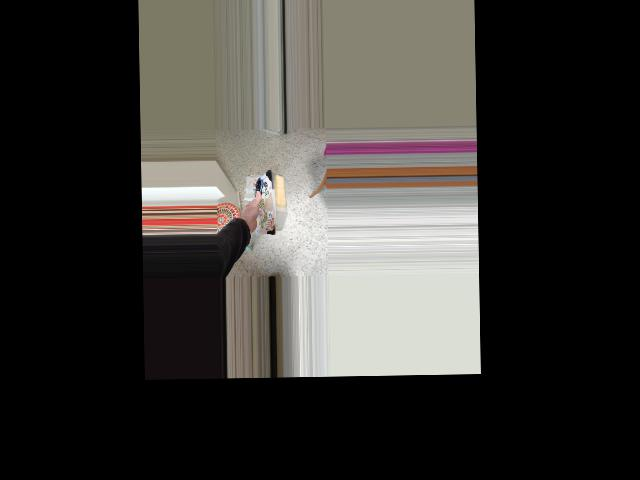cheese: (238, 166, 304, 243)
